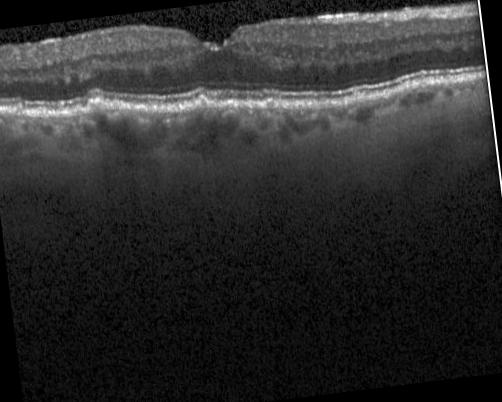retinal_drusen: (89, 102, 107, 113), (199, 97, 208, 109), (352, 91, 361, 103), (74, 107, 85, 116), (266, 100, 274, 109), (276, 101, 284, 110), (14, 105, 21, 115), (112, 101, 119, 110), (225, 102, 235, 108), (249, 102, 259, 108), (318, 101, 326, 108), (327, 100, 334, 107), (57, 112, 66, 117), (238, 100, 244, 107), (419, 79, 426, 85), (137, 106, 145, 111), (296, 103, 302, 109)
